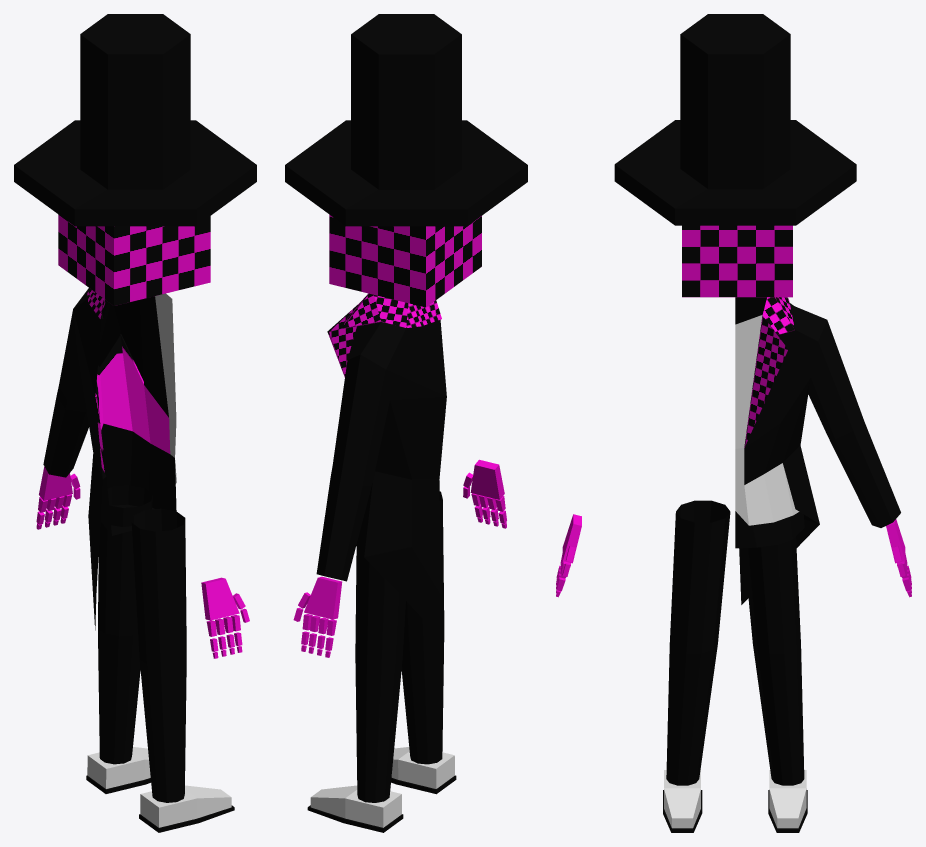
File: Amat3D.glb
3 views of the same model, side by side, from view 1: azimuth 30°, elevation 25°; view 2: azimuth 150°, elevation 25°; view 3: azimuth 270°, elevation 25° (orthographic).
Parts seen in each view (by area): view 1: Cylinder, Torso.EXTRUDE.BACKUP, leg.001, leg, Head, shoe, Cube.002, shoe.001, Cube.001; view 2: Cylinder, Torso.EXTRUDE.BACKUP, Head, leg, leg.001, shoe.001, Cube.001, Cube.002, shoe; view 3: Cylinder, Torso.EXTRUDE.BACKUP, leg.001, leg, Head, shoe.001, shoe, Cube.002, Cube.001.
Boxes of the visible parts, x1,y1,x2,y2 form: Cylinder: [14, 14, 256, 226]; Torso.EXTRUDE.BACKUP: [43, 288, 176, 630]; leg.001: [131, 508, 186, 802]; leg: [98, 485, 152, 764]; Head: [58, 214, 210, 305]; shoe: [139, 785, 234, 832]; Cube.002: [201, 577, 249, 658]; shoe.001: [86, 747, 150, 793]; Cube.001: [36, 466, 80, 529]; Cylinder: [285, 14, 527, 226]; Torso.EXTRUDE.BACKUP: [316, 293, 446, 636]; Head: [329, 214, 481, 307]; leg: [355, 547, 405, 802]; leg.001: [401, 491, 444, 764]; shoe.001: [307, 785, 403, 832]; Cube.001: [293, 576, 342, 657]; Cube.002: [463, 459, 506, 528]; shoe: [391, 747, 456, 794]; Cylinder: [614, 14, 856, 225]; Torso.EXTRUDE.BACKUP: [735, 297, 900, 604]; leg.001: [666, 500, 730, 785]; leg: [743, 536, 804, 785]; Head: [682, 225, 792, 297]; shoe.001: [768, 770, 807, 832]; shoe: [663, 770, 702, 832]; Cube.002: [556, 514, 581, 597]; Cube.001: [886, 519, 911, 597].
Size of the model in its own units: 2.66 by 10.74 by 4.52.
Materials: 2 (1 with a texture image).
